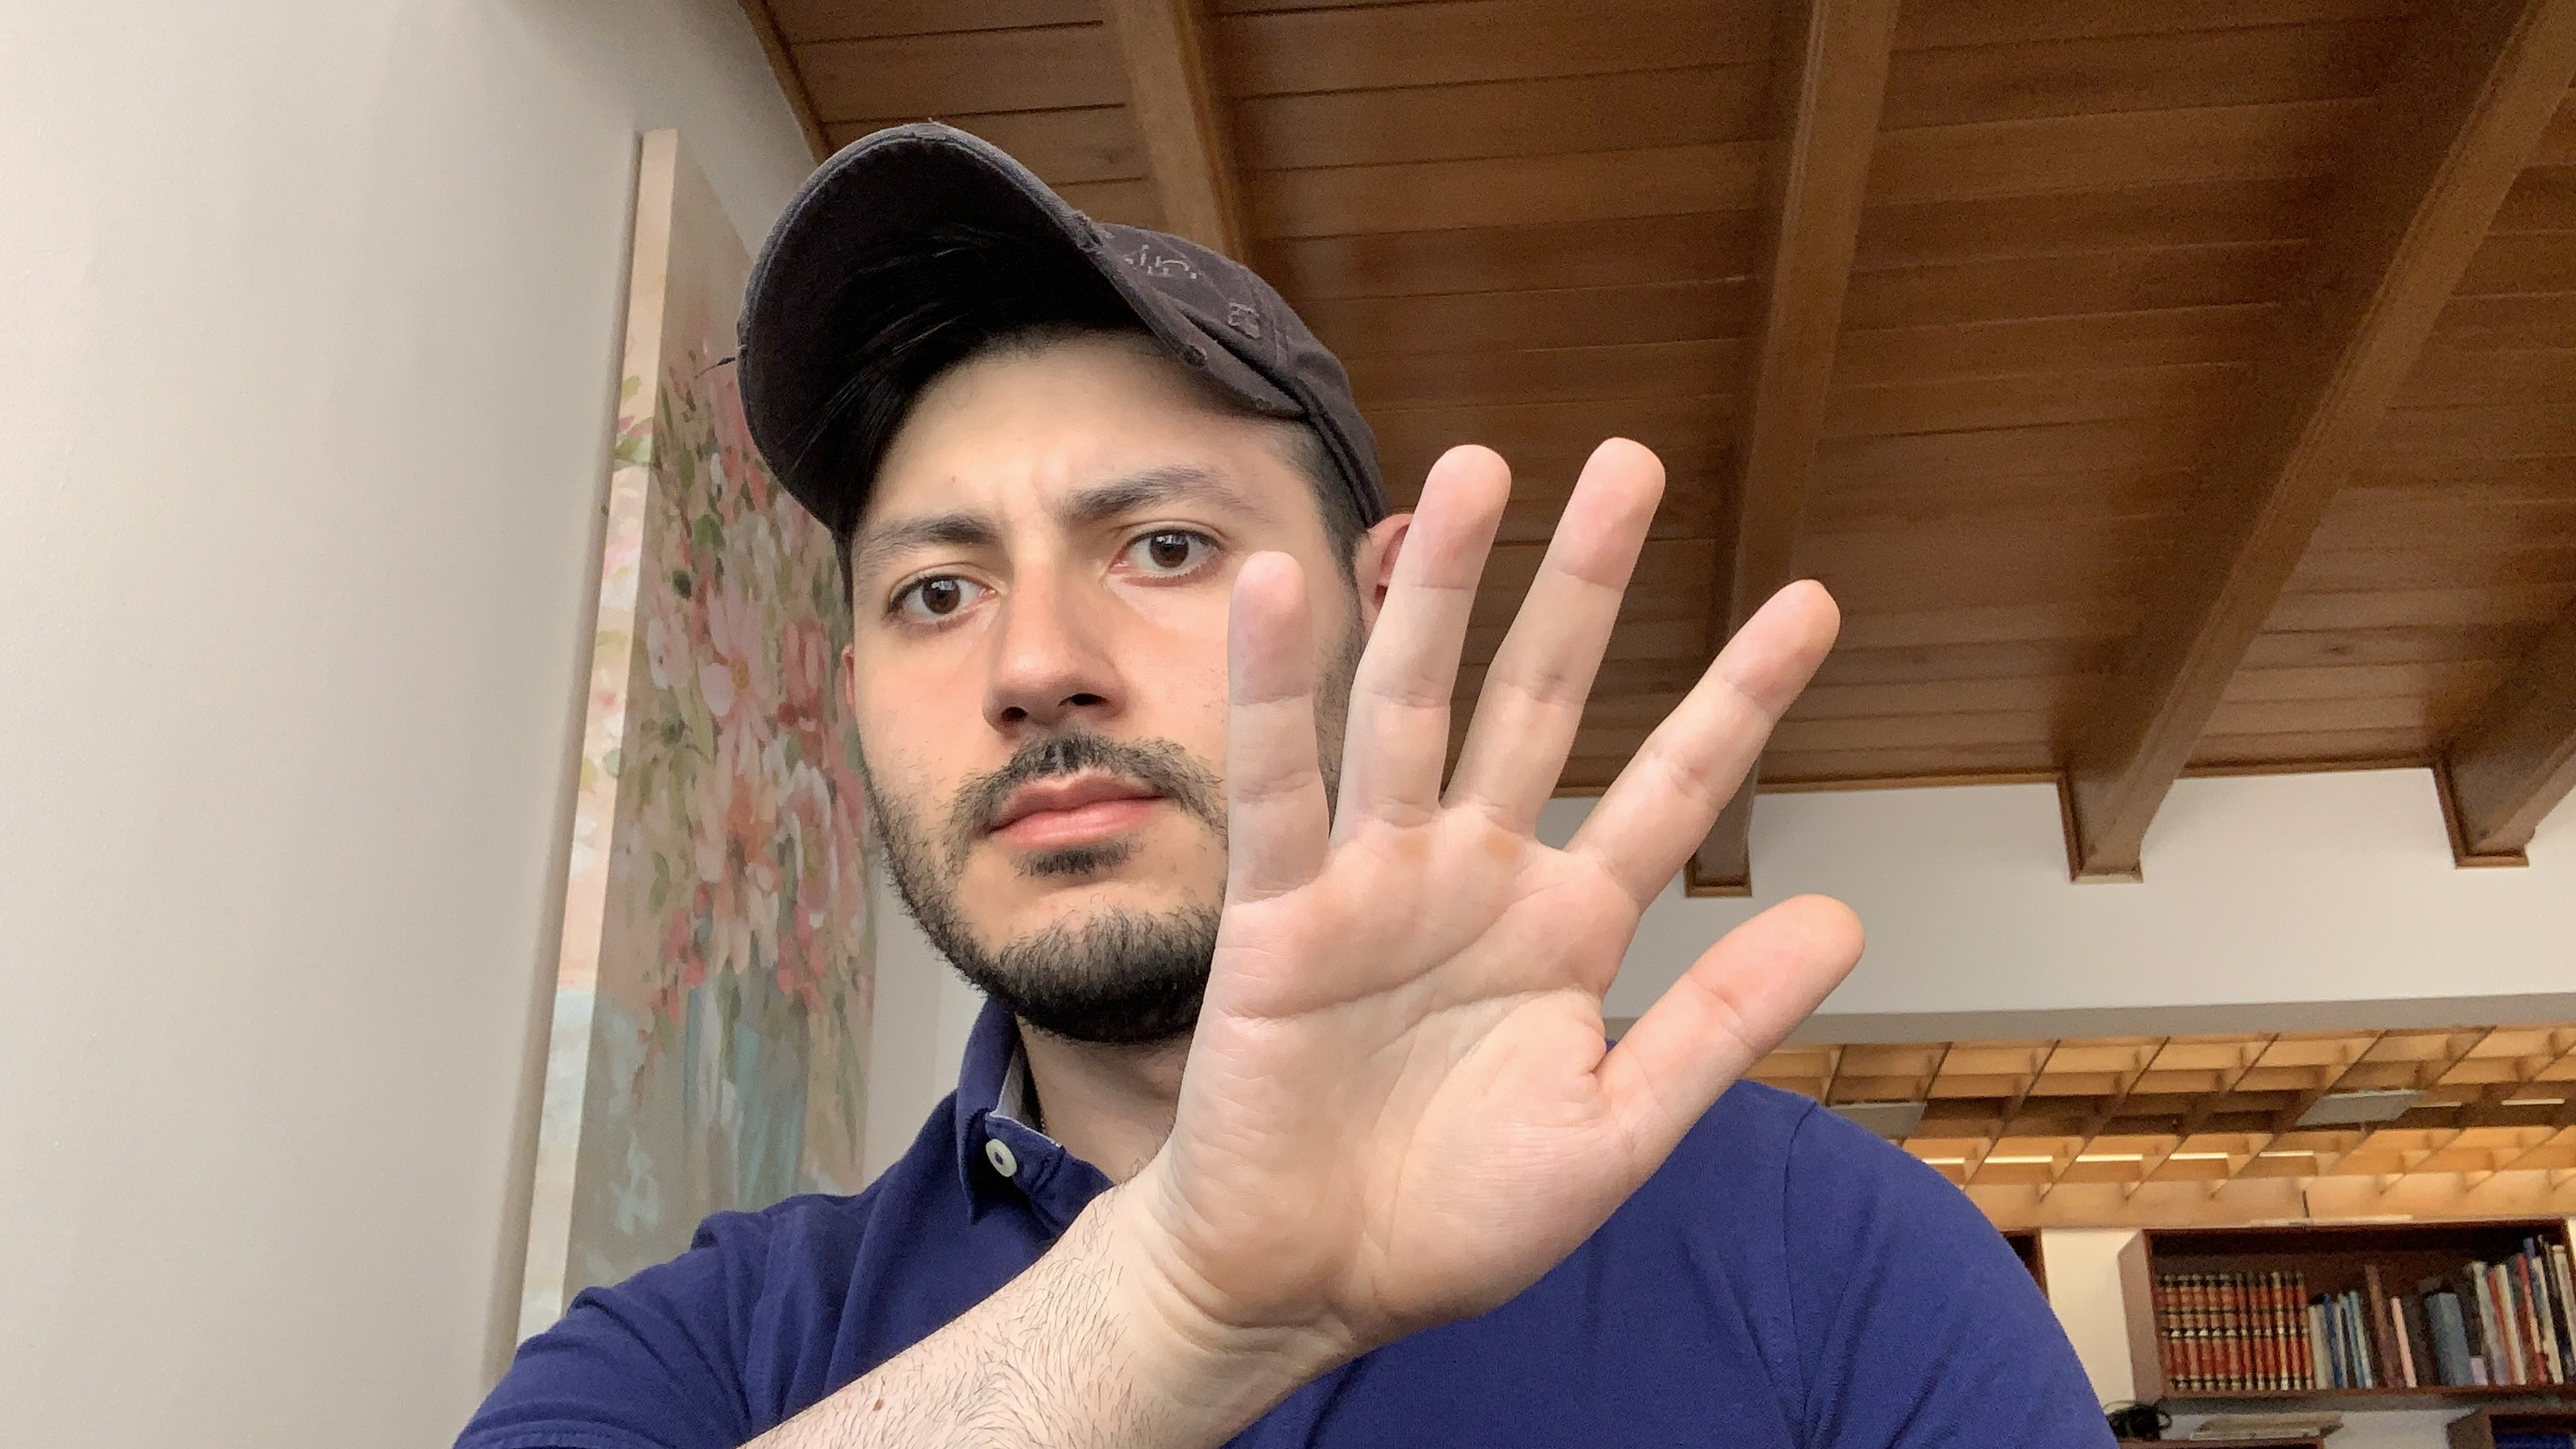Hello: (1139, 426, 1886, 1369)
